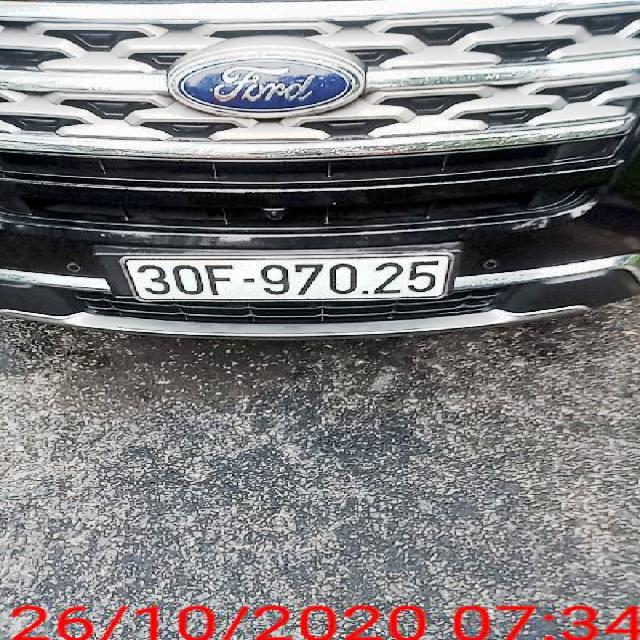license_plate: (123, 256, 447, 303)
